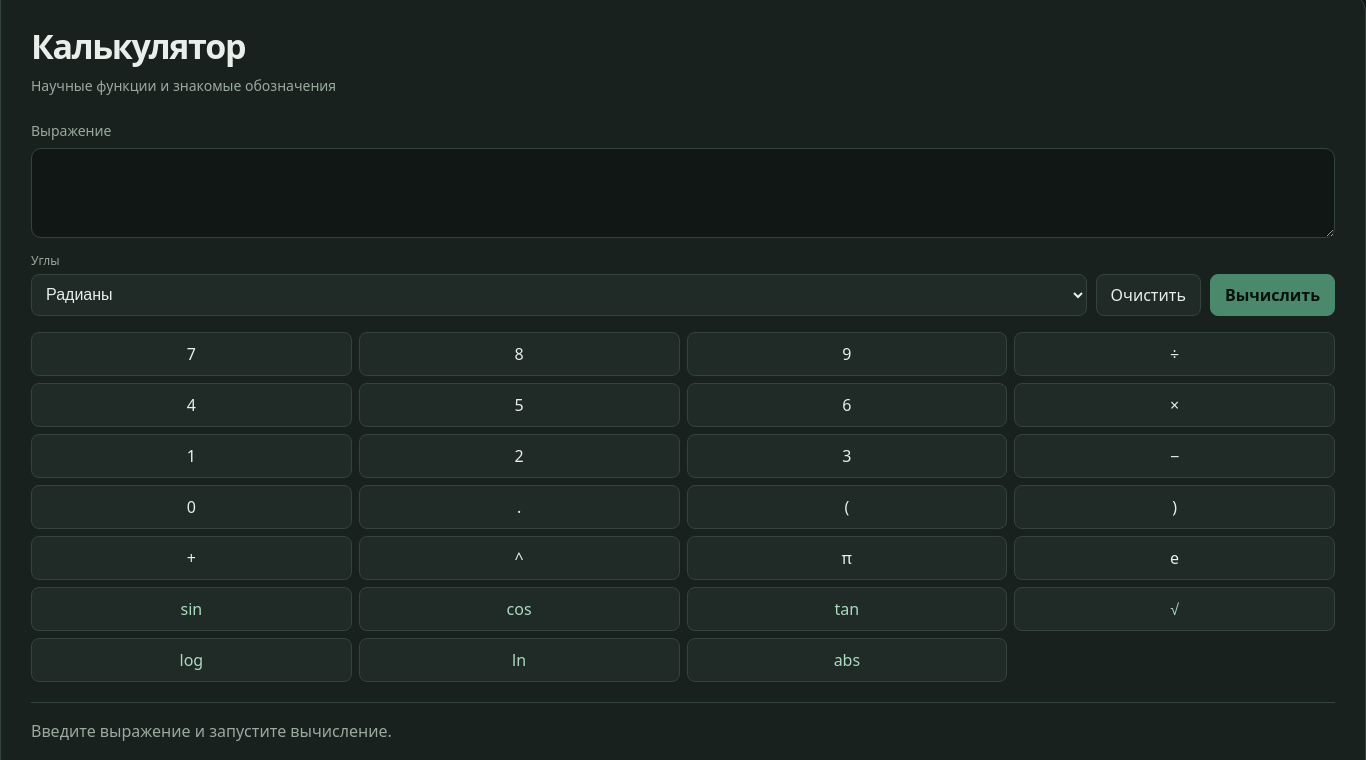
Test: CalculatorView › reports invalid expressions in the result area
Step 1. Type "sqrt(-1)" into the text box named "математическое выражение" → (683, 193), box [31,148,1335,238]
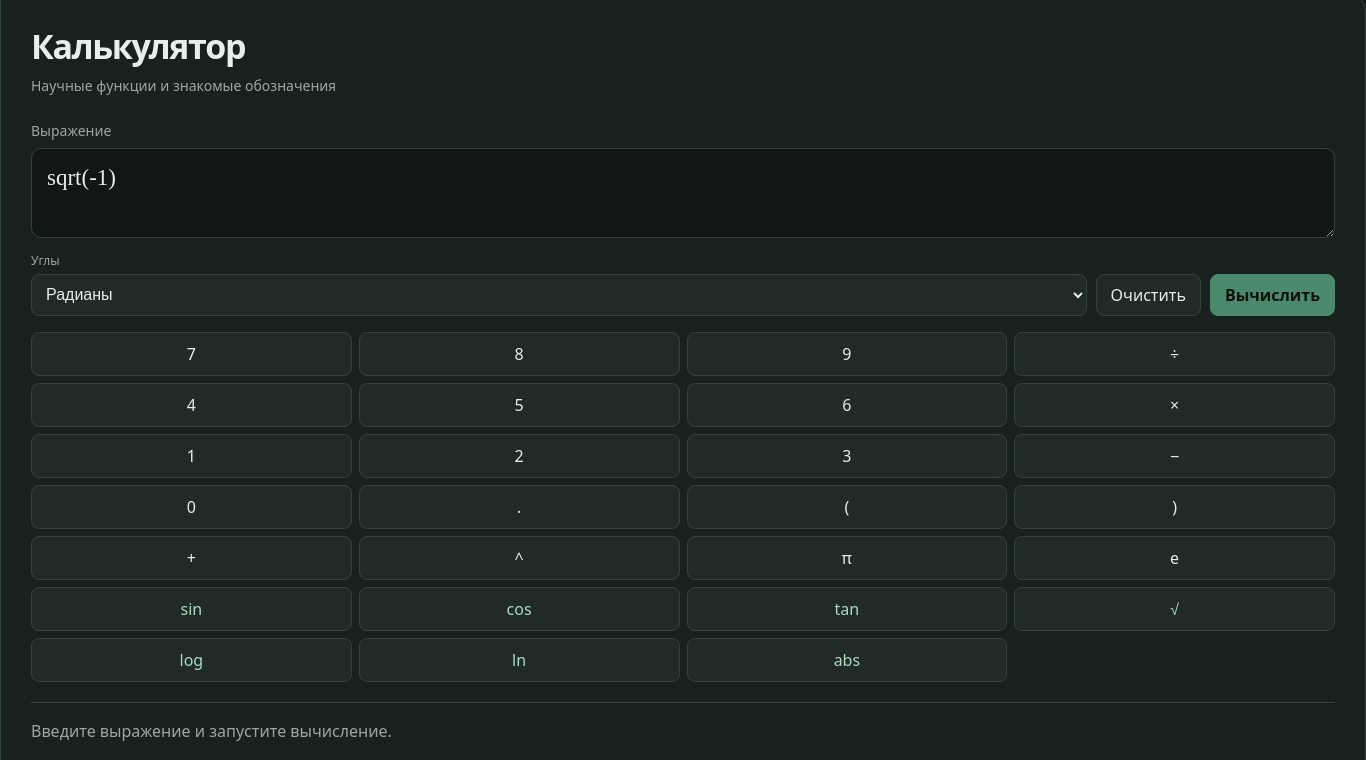
Step 2. Click the button "Вычислить" → (1272, 295), box [1210,274,1335,316]
(page scrolled)
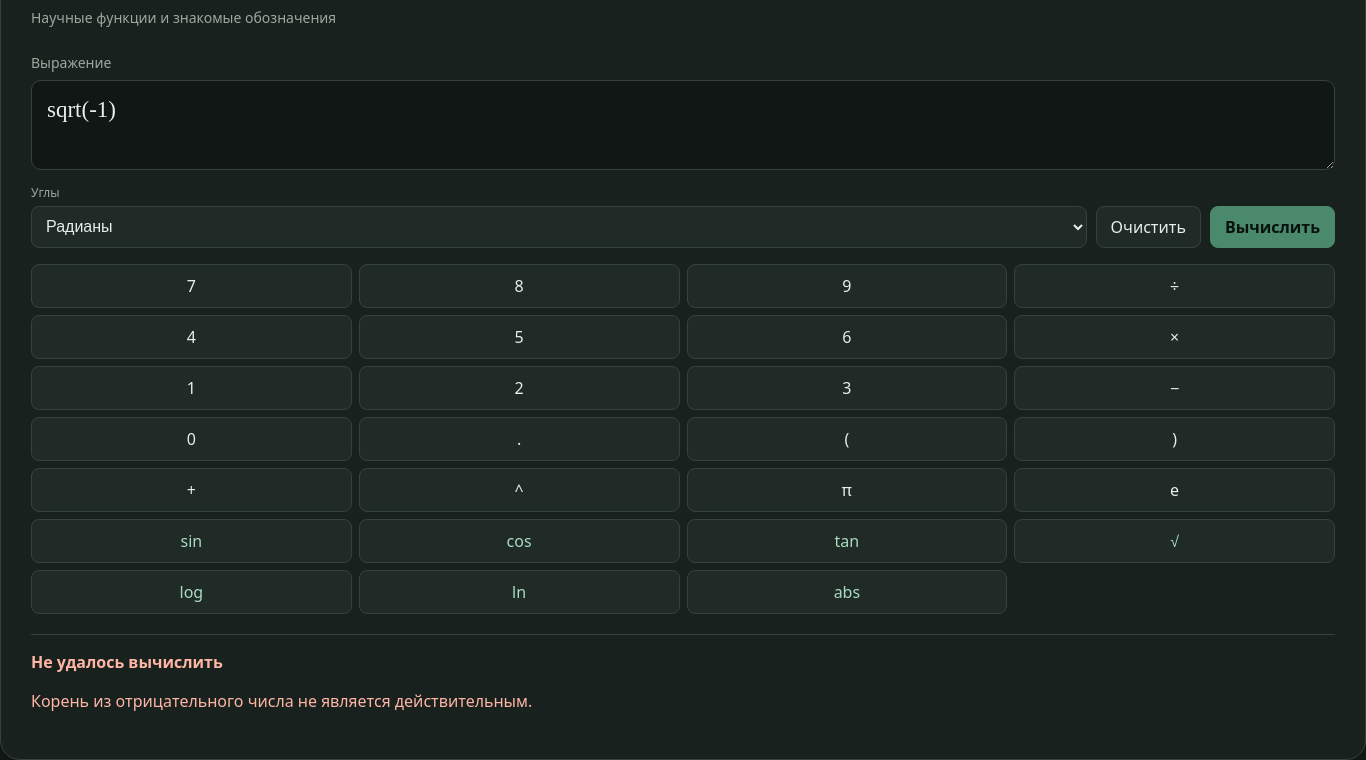
Expected: the message shows "отрицательного числа", [31,690,532,712]
